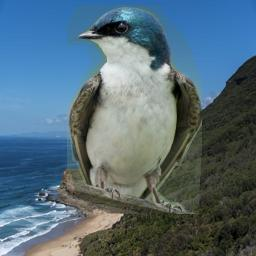Swallow: (67, 5, 202, 214)
